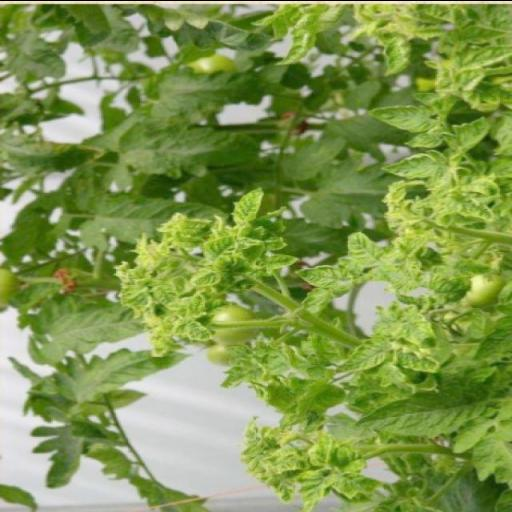disease_tomato: (111, 184, 303, 346), (236, 415, 370, 512), (430, 188, 500, 222), (382, 150, 456, 181), (388, 304, 442, 346), (332, 336, 388, 374), (362, 104, 436, 132), (299, 465, 340, 512), (229, 180, 268, 228), (294, 264, 362, 287), (346, 225, 384, 264), (382, 35, 412, 75), (174, 292, 216, 318), (204, 230, 240, 258), (172, 321, 214, 341), (424, 280, 468, 298), (189, 262, 225, 284)
